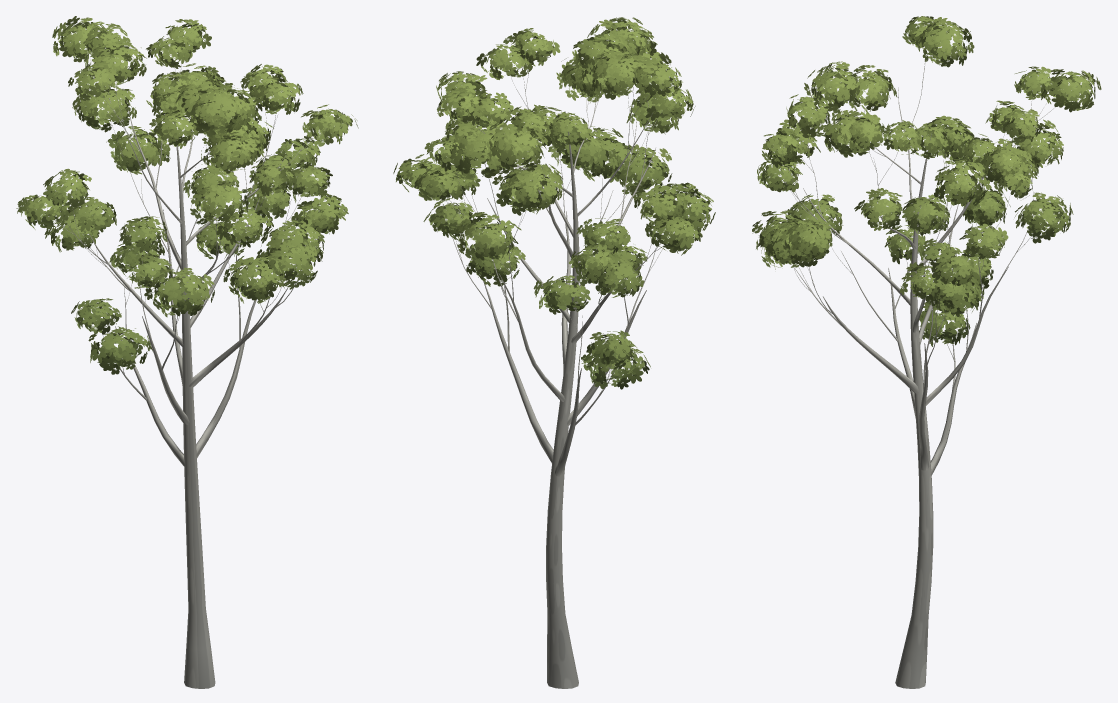
File: tree.gltf
The picture shows the model from 3 angles, left to right: view 1: azimuth 30°, elevation 25°; view 2: azimuth 150°, elevation 25°; view 3: azimuth 270°, elevation 25°; orthographic projection. The views are drawn at different scales.
Visible parts, largest first — view 1: Tree_LOD0; view 2: Tree_LOD0; view 3: Tree_LOD0.
Boxes of the visible parts, x1,y1,x2,y2 form: Tree_LOD0: (16, 16, 358, 688); Tree_LOD0: (393, 17, 715, 688); Tree_LOD0: (752, 16, 1101, 688).
Bounding box in the file's own units: 11.94 × 24.4 × 12.54.
Materials: 2 (2 with a texture image).
